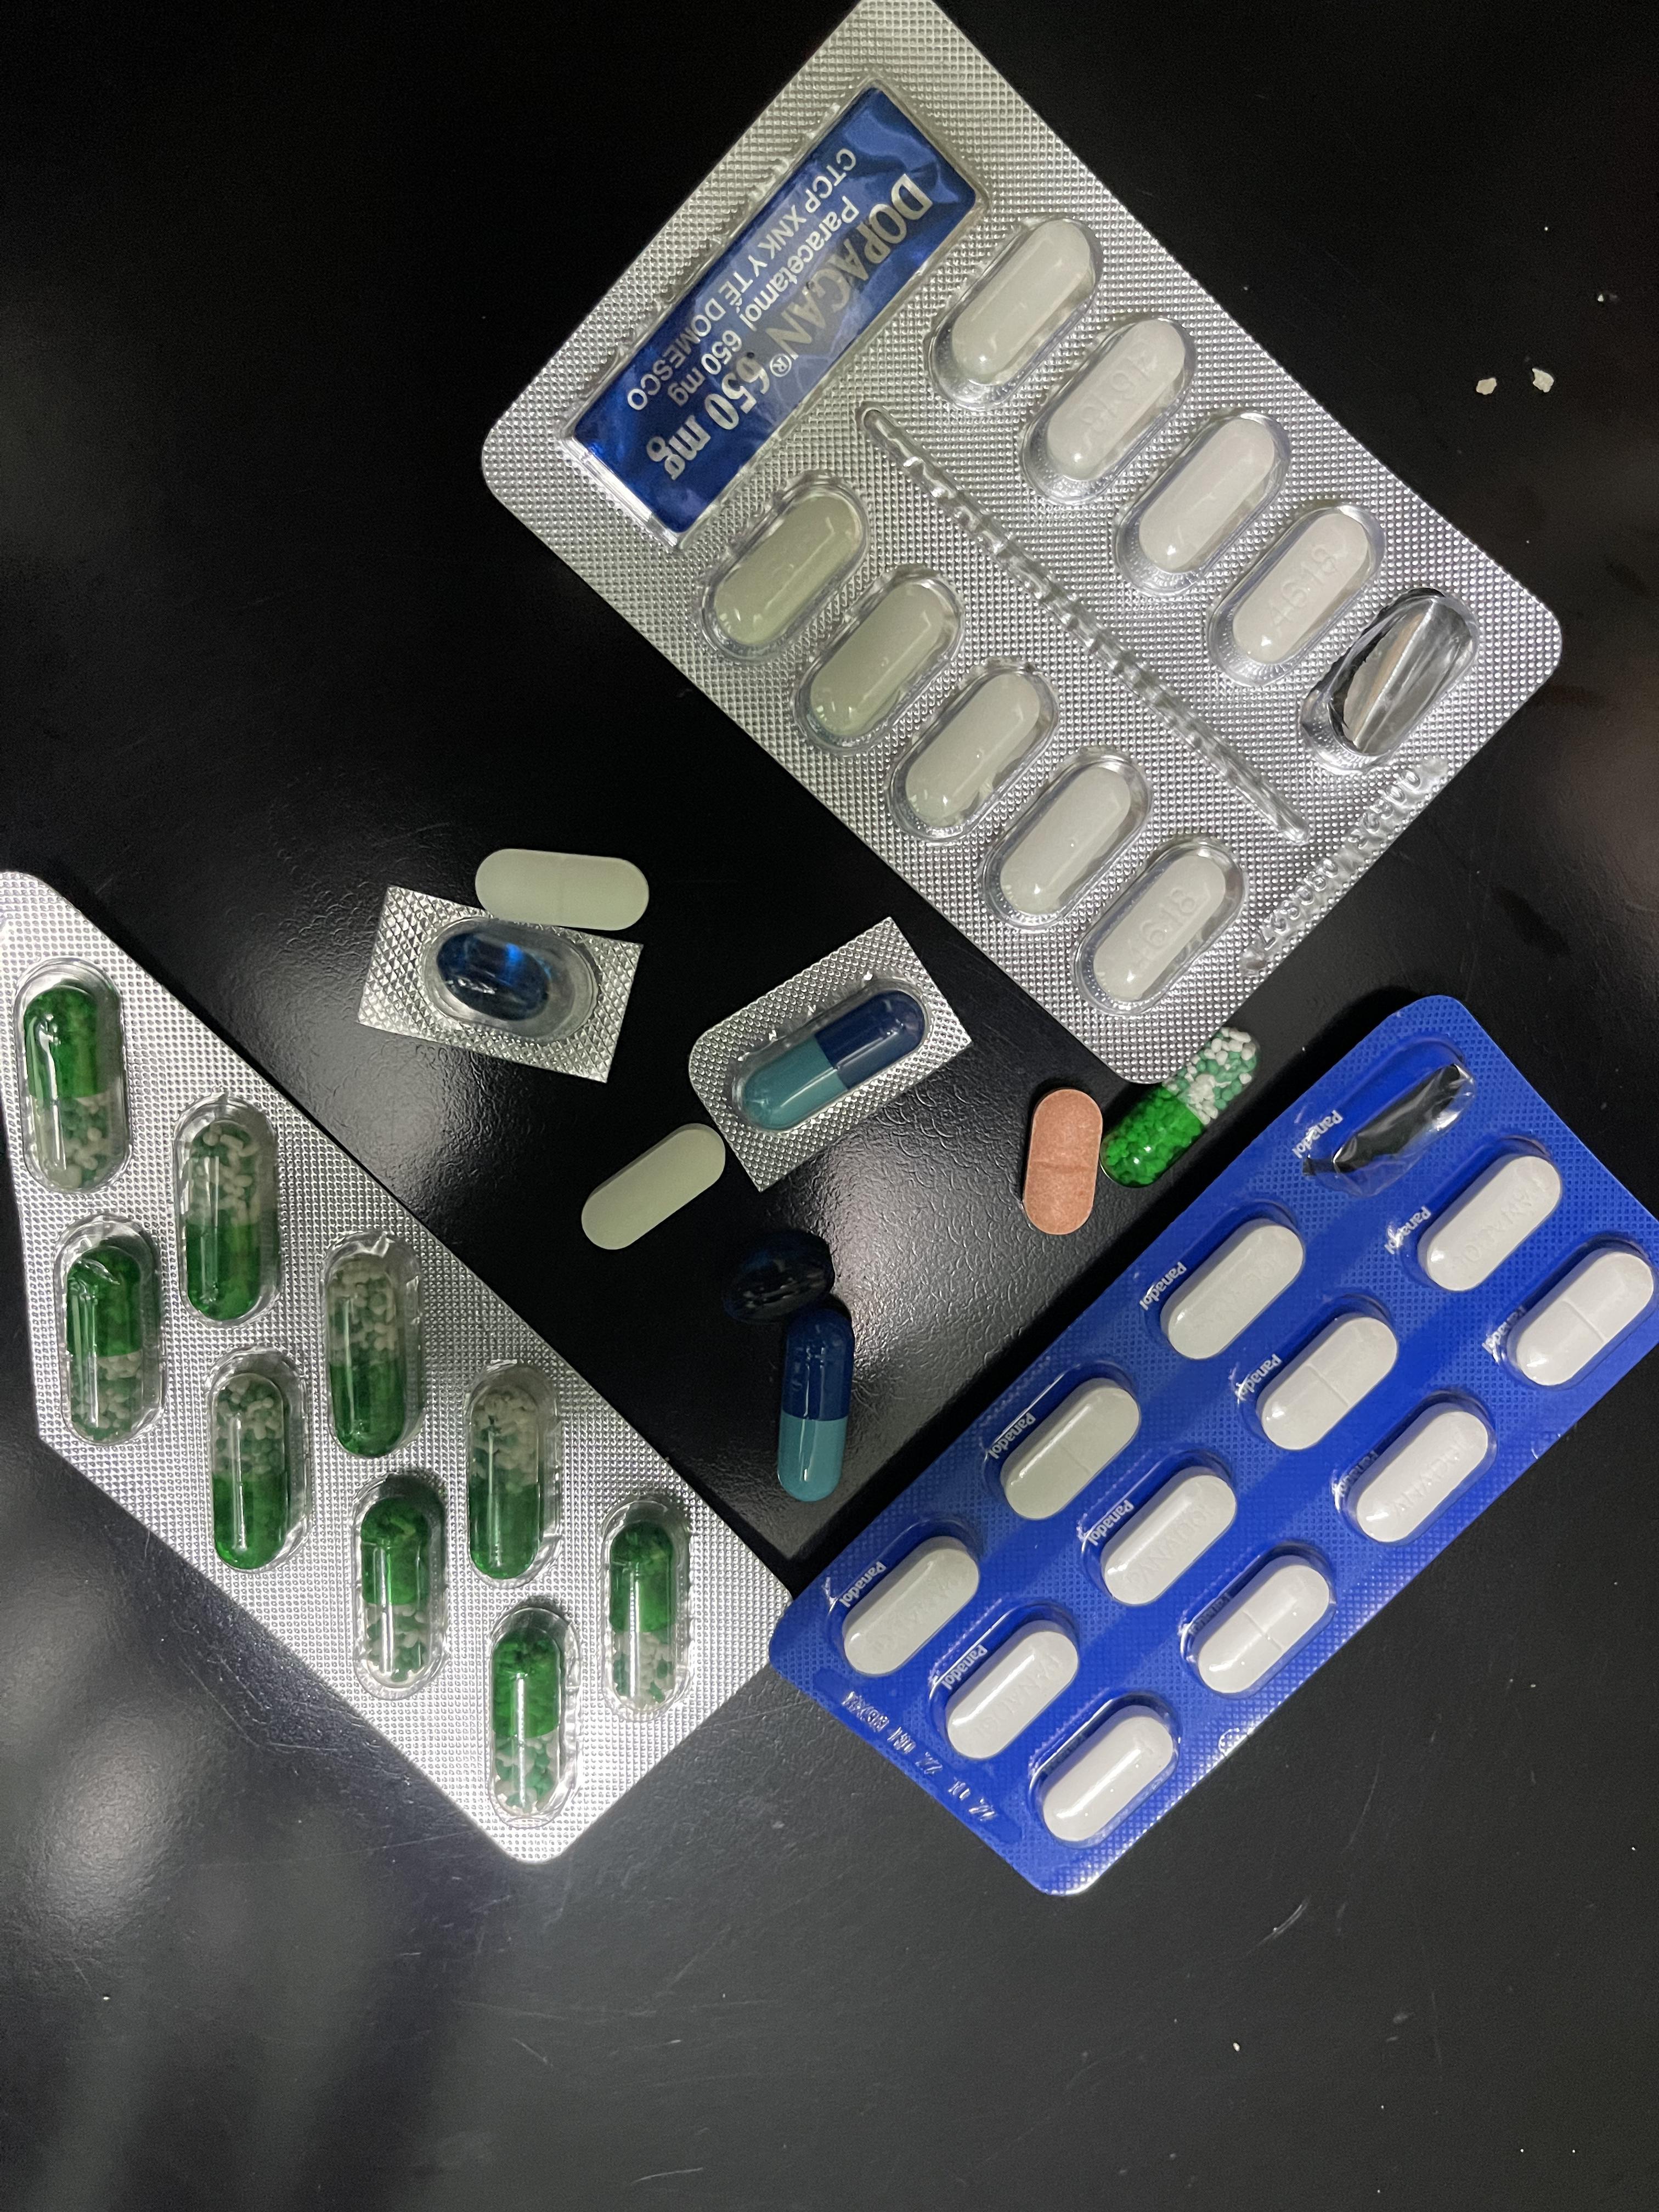Lincomyxin_500mg: (436, 929, 556, 1018), (723, 1229, 830, 1324)
Loratadine_10mg: (1023, 1087, 1103, 1233)
Paracetamol_350mg: (1344, 1395, 1499, 1550), (1503, 1242, 1659, 1391), (1190, 1544, 1338, 1698), (1163, 1216, 1307, 1365), (1417, 1148, 1565, 1291), (1256, 1308, 1401, 1454), (1095, 1462, 1238, 1610), (1000, 1376, 1139, 1523), (941, 1615, 1079, 1763), (1036, 1702, 1178, 1847), (840, 1533, 977, 1679), (473, 850, 648, 934)
Paracetamol_500mg: (1019, 317, 1193, 501), (947, 217, 1097, 387), (1127, 412, 1279, 578), (816, 570, 958, 735), (1225, 507, 1369, 665), (710, 484, 849, 645), (995, 758, 1137, 909), (901, 668, 1042, 817), (1092, 855, 1228, 996), (578, 1126, 721, 1249)
Paracetamol_650mg: (14, 963, 133, 1184), (54, 1221, 165, 1449), (172, 1093, 282, 1318), (206, 1349, 313, 1573), (1097, 1033, 1258, 1179), (351, 1469, 450, 1698), (322, 1234, 425, 1455), (464, 1366, 561, 1578), (488, 1602, 580, 1824), (601, 1496, 692, 1716)
pill: (738, 981, 918, 1129), (774, 1308, 848, 1504)
